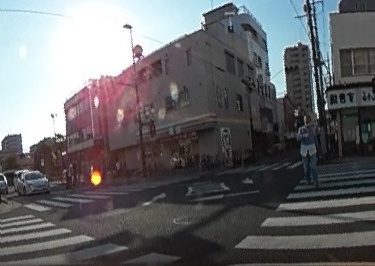person: (299, 113, 321, 190)
